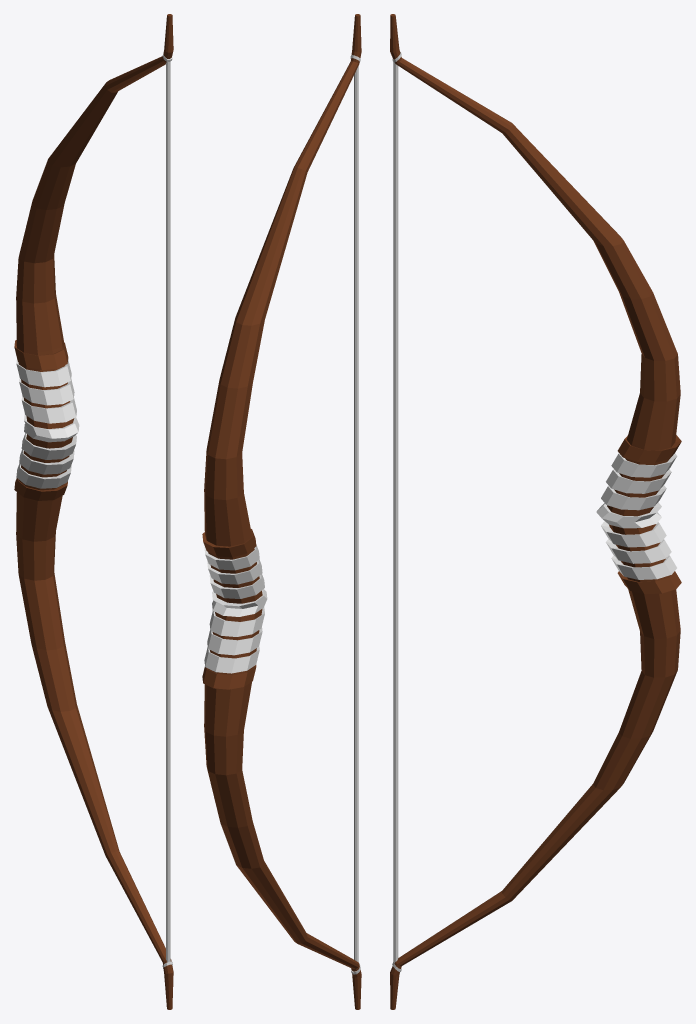
Rendered from bow low poly final.glb.
3 renders of one model, left to right at view 1: azimuth 30°, elevation 25°; view 2: azimuth 150°, elevation 25°; view 3: azimuth 270°, elevation 25°, orthographic.
Parts seen in each view (by area): view 1: Bow, String; view 2: Bow, String; view 3: Bow, String.
Boxes of the visible parts, box(x1,y1,x2,y2) form: Bow: box(14, 14, 173, 1009); String: box(166, 61, 170, 962); Bow: box(202, 14, 361, 1009); String: box(354, 66, 358, 962); Bow: box(390, 14, 681, 1009); String: box(393, 62, 398, 963).
Bounding box in the file's own units: 2.03 × 44.99 × 11.97.
